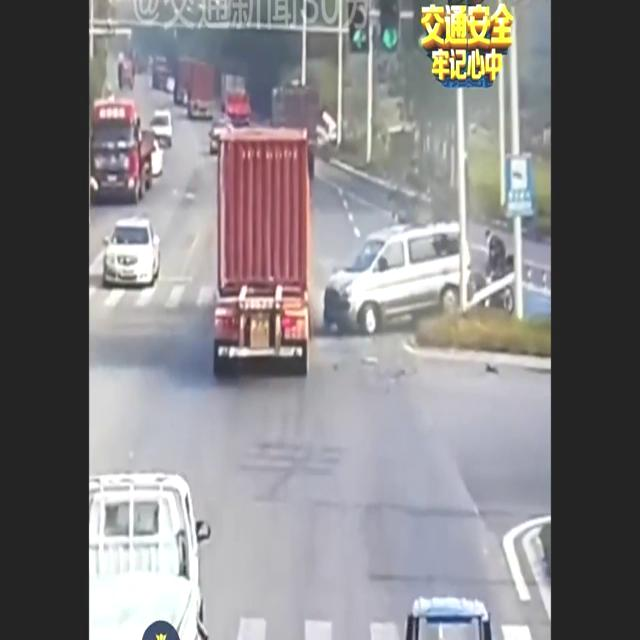accident: (321, 191, 514, 343)
non-accident: (89, 98, 173, 205), (174, 56, 216, 122)
